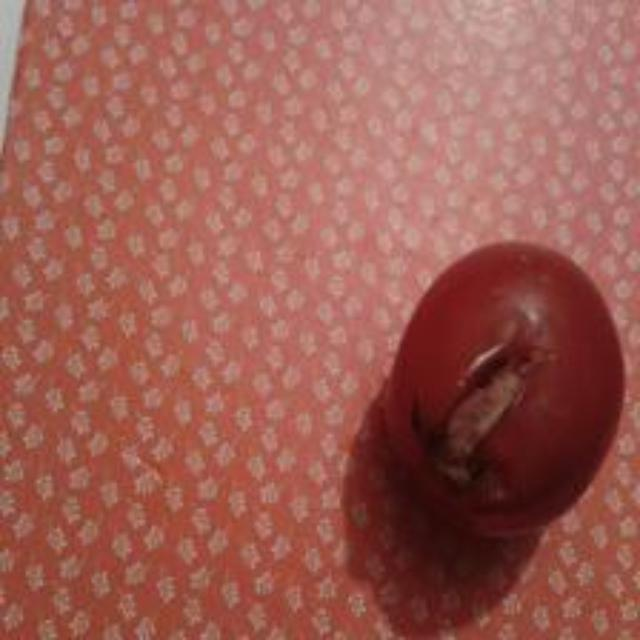defect: (385, 235, 629, 534)
